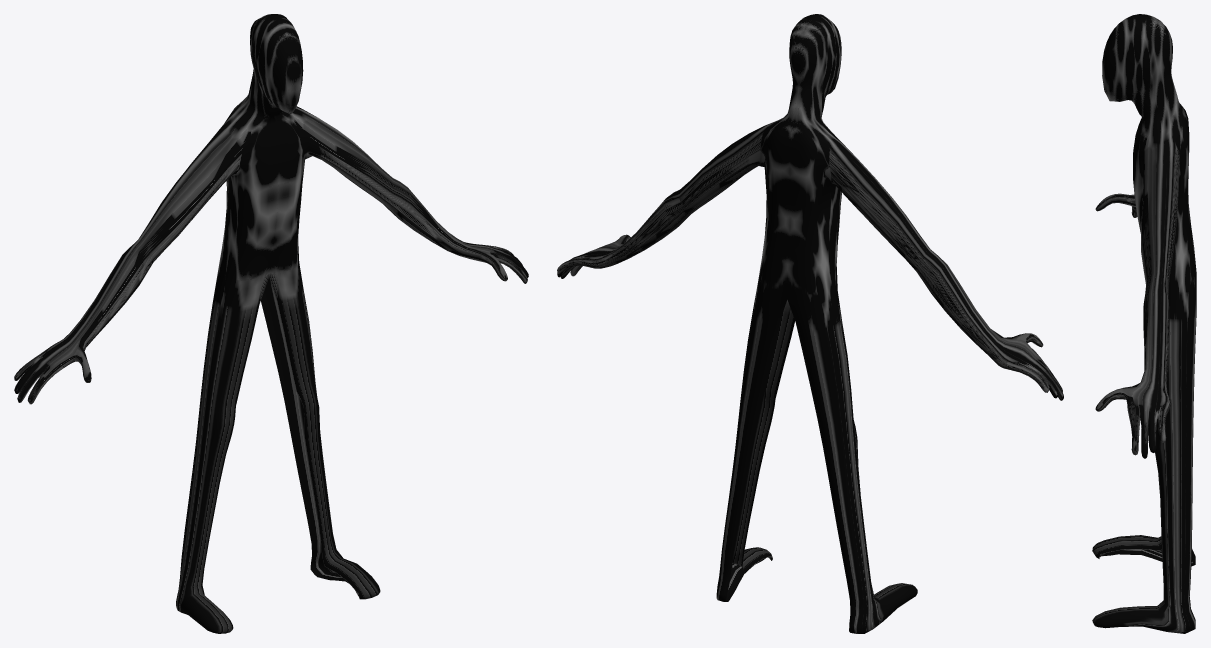
The model's file is ghost.fbx.
3 views of the same model, side by side, from view 1: azimuth 30°, elevation 25°; view 2: azimuth 150°, elevation 25°; view 3: azimuth 270°, elevation 25° (orthographic).
Parts seen in each view (by area): view 1: ghostGirl; view 2: ghostGirl; view 3: ghostGirl.
Boxes of the visible parts, x1=… form: ghostGirl: x1=14, y1=14, x2=528, y2=633; ghostGirl: x1=557, y1=14, x2=1063, y2=633; ghostGirl: x1=1092, y1=14, x2=1196, y2=633.
Bounding box in the file's own units: 1479 × 1643 × 266.
Materials: 1 (1 with a texture image).
